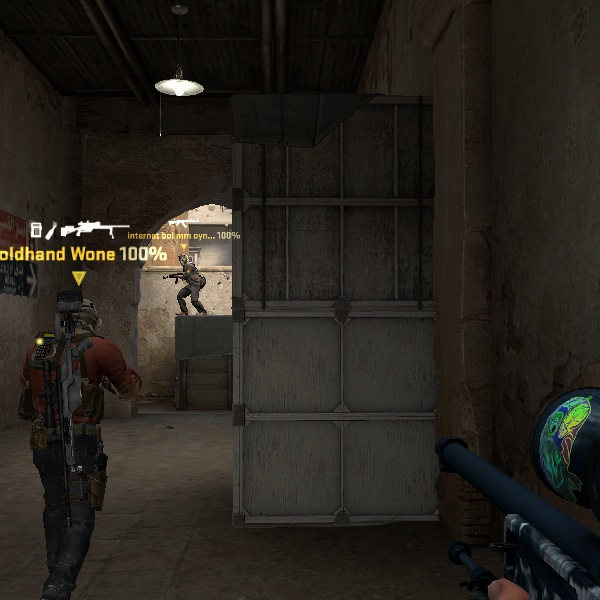t_body: (2, 289, 142, 587), (167, 253, 212, 316)
t_head: (45, 289, 102, 345), (175, 251, 194, 268)
